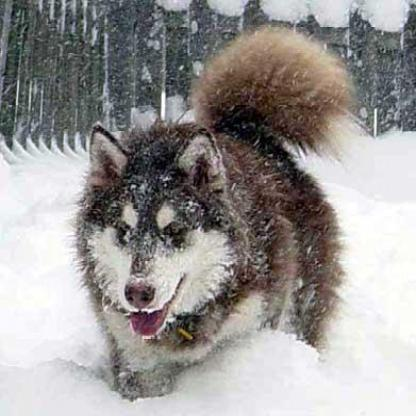malamute: (67, 23, 361, 398)
